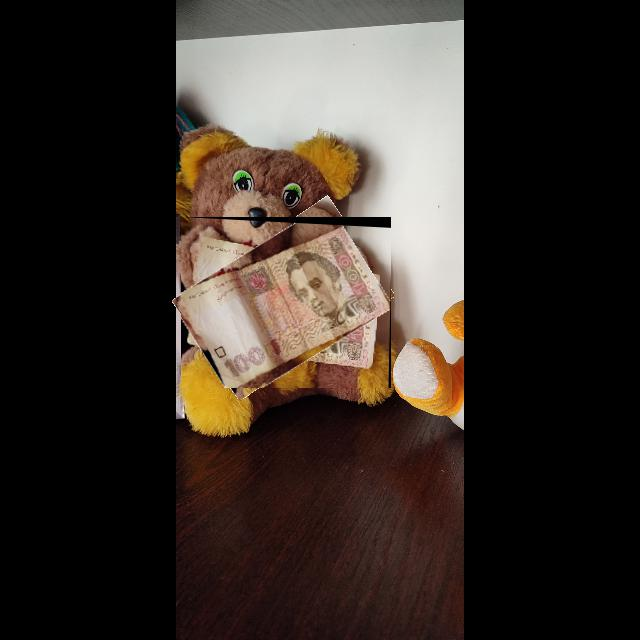100uah: (181, 224, 391, 389)
